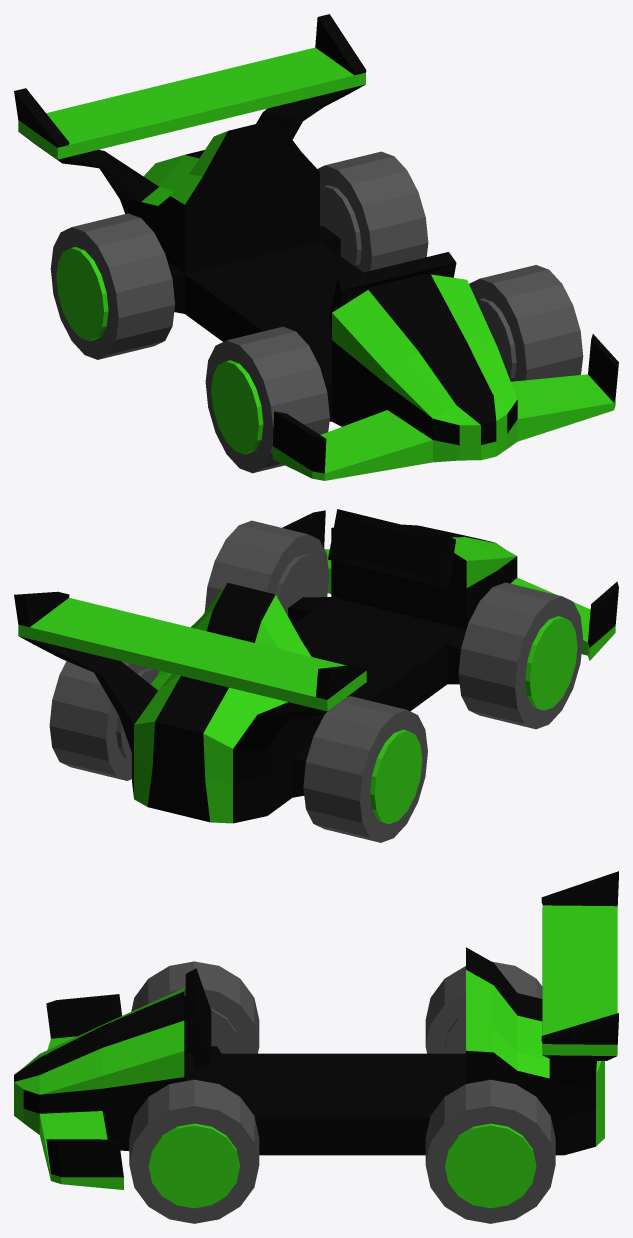
The model's file is F1_Ground.fbx.
3 views of the same model, one above another, from view 1: azimuth 30°, elevation 25°; view 2: azimuth 150°, elevation 25°; view 3: azimuth 270°, elevation 25° (orthographic). The views are drawn at different scales.
Parts seen in each view (by area): view 1: F1_Ground, Wheel_BR, Wheel_FR.001, Wheel_BL, Wheel_FL; view 2: F1_Ground, Wheel_FR.001, Wheel_BR, Wheel_FL, Wheel_BL; view 3: F1_Ground, Wheel_BL, Wheel_FL, Wheel_FR.001, Wheel_BR.
Part boxes in pixels (x1,y1,x2,y2): F1_Ground: (14, 14, 618, 480); Wheel_BR: (50, 213, 174, 359); Wheel_FR.001: (205, 326, 329, 473); Wheel_BL: (317, 151, 428, 272); Wheel_FL: (469, 265, 583, 381); F1_Ground: (14, 509, 618, 823); Wheel_FR.001: (458, 582, 582, 729); Wheel_BR: (303, 696, 427, 842); Wheel_FL: (204, 520, 329, 615); Wheel_BL: (49, 661, 159, 780); F1_Ground: (14, 871, 618, 1189); Wheel_BL: (425, 1079, 555, 1223); Wheel_FL: (129, 1079, 259, 1223); Wheel_FR.001: (131, 961, 259, 1053); Wheel_BR: (425, 961, 542, 1053).
Bounding box in the file's own units: 91.29 × 157 × 59.06.
